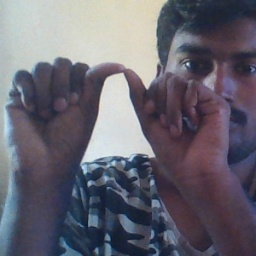A: (16, 55, 222, 185)
